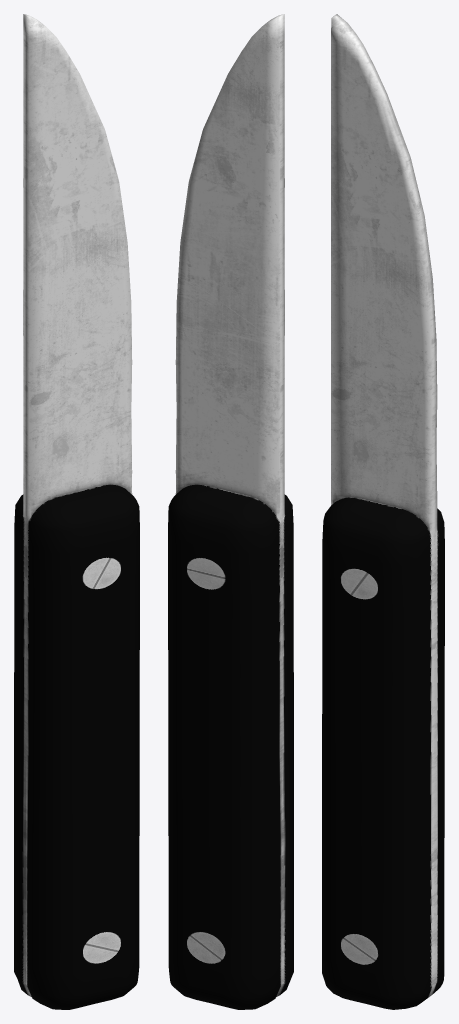
The model's file is kitchen_knife.obj.
3 views of the same model, side by side, from view 1: azimuth 30°, elevation 25°; view 2: azimuth 150°, elevation 25°; view 3: azimuth 330°, elevation 25° (orthographic). The views are drawn at different scales.
Visible parts, largest first — view 1: g_knife; view 2: g_knife; view 3: g_knife.
Boxes of the visible parts, left/top/right/bottom form: g_knife: left=14, top=14, right=139, bottom=1009; g_knife: left=168, top=14, right=293, bottom=1009; g_knife: left=322, top=14, right=444, bottom=1009.
Size of the model in its own units: 0.0496 by 0.45 by 0.0407.
1 material, 1 textured.
